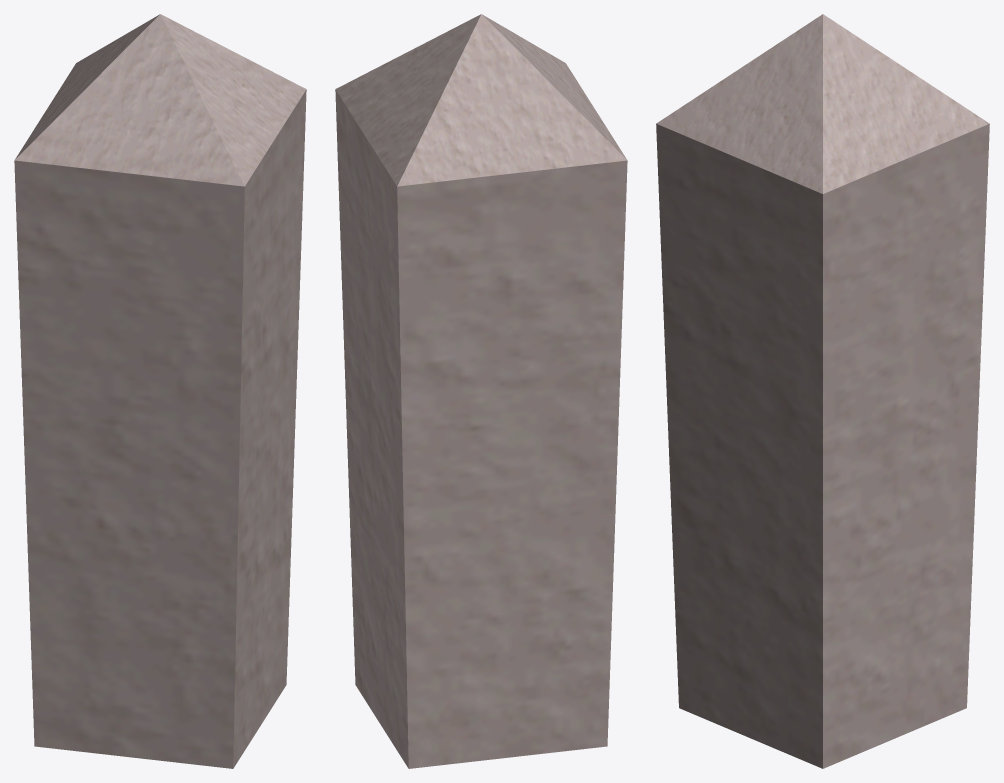
Rendered from ZaunEcke_31.glb.
3 views of the same model, side by side, from view 1: azimuth 30°, elevation 25°; view 2: azimuth 150°, elevation 25°; view 3: azimuth 270°, elevation 25° (orthographic).
Parts seen in each view (by area): view 1: pCylinderShape1, pPlaneShape1; view 2: pCylinderShape1, pPlaneShape1; view 3: pCylinderShape1, pPlaneShape1.
Part boxes in pixels (x1,y1,x2,y2): pCylinderShape1: (14,89,306,768); pPlaneShape1: (14,14,306,186); pCylinderShape1: (335,89,627,768); pPlaneShape1: (335,14,627,186); pCylinderShape1: (656,123,989,768); pPlaneShape1: (656,14,989,193).
Size of the model in its own units: 0.0817 by 0.1874 by 0.0817.
2 materials, 2 textured.
